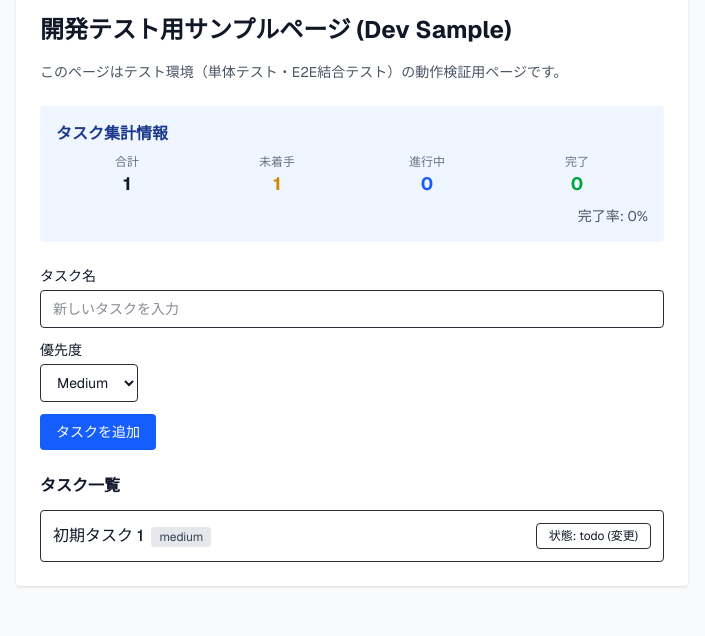
Test case: DevSamplePage UI コンポーネント仕様 › バリデーションエラー: タイトル空欄で追加しようとするとエラーメッセージが表示されること
The image size is (705, 636).
Click the button with test id "add-task-button": (98, 432) x1=40 y1=414 x2=156 y2=450
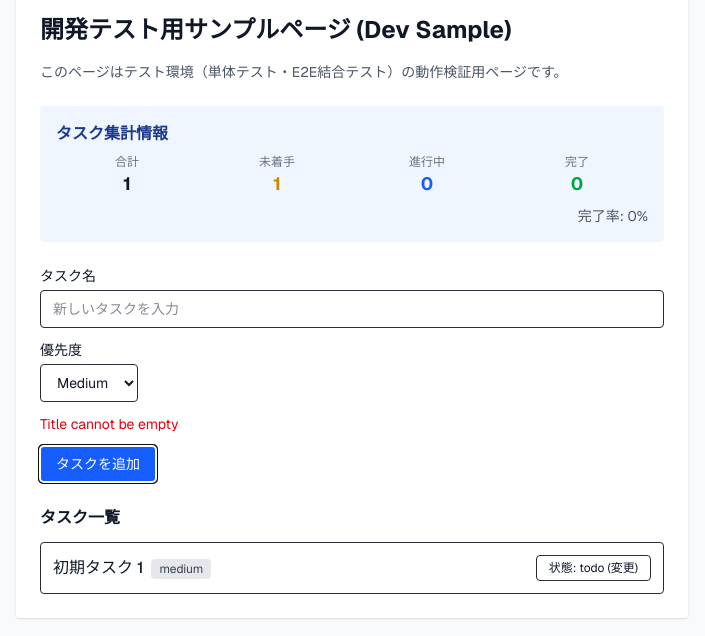
Now the text with test id "error-message" reads "Title cannot be empty", box x1=40 y1=415 x2=178 y2=433
